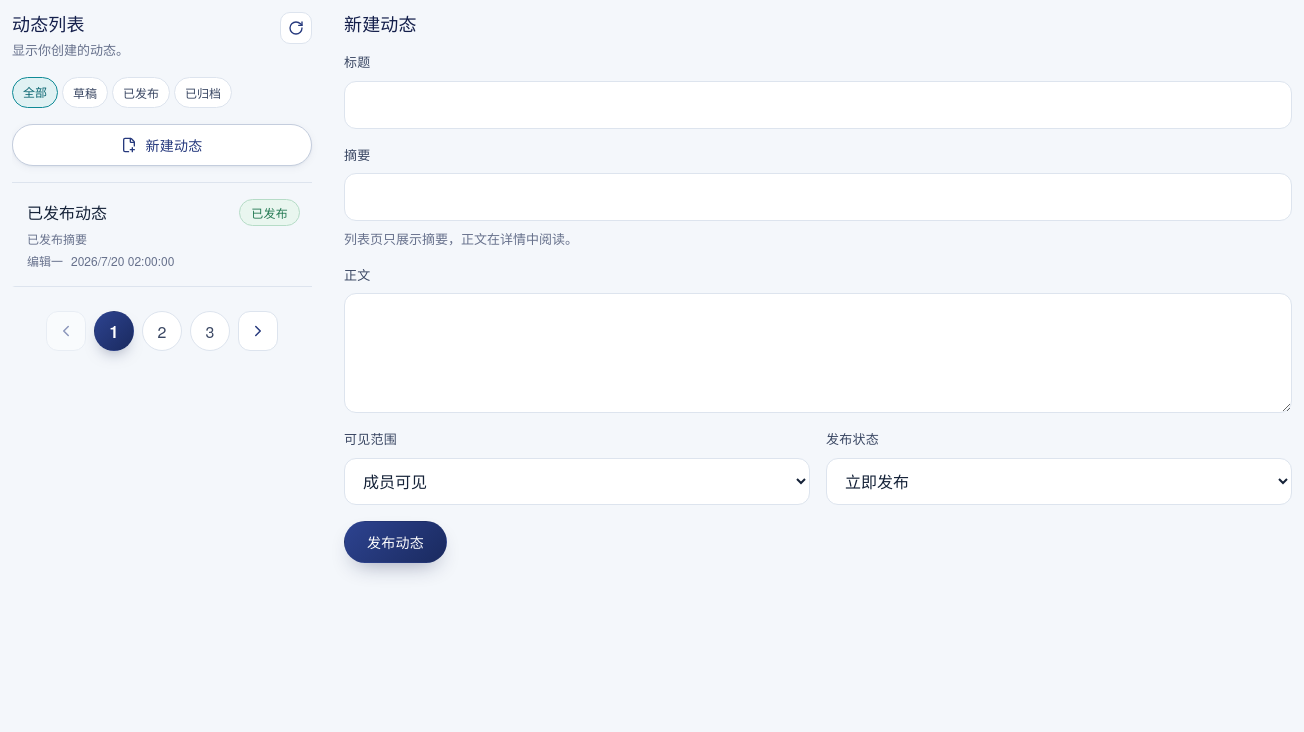
Scenario: AdminNews manage workspace › keeps the stable page and list when total-shrink correction fails
The width and height of the screenshot is (1304, 732).
Click the button named "下一页": click(258, 332) [238, 312, 278, 352]
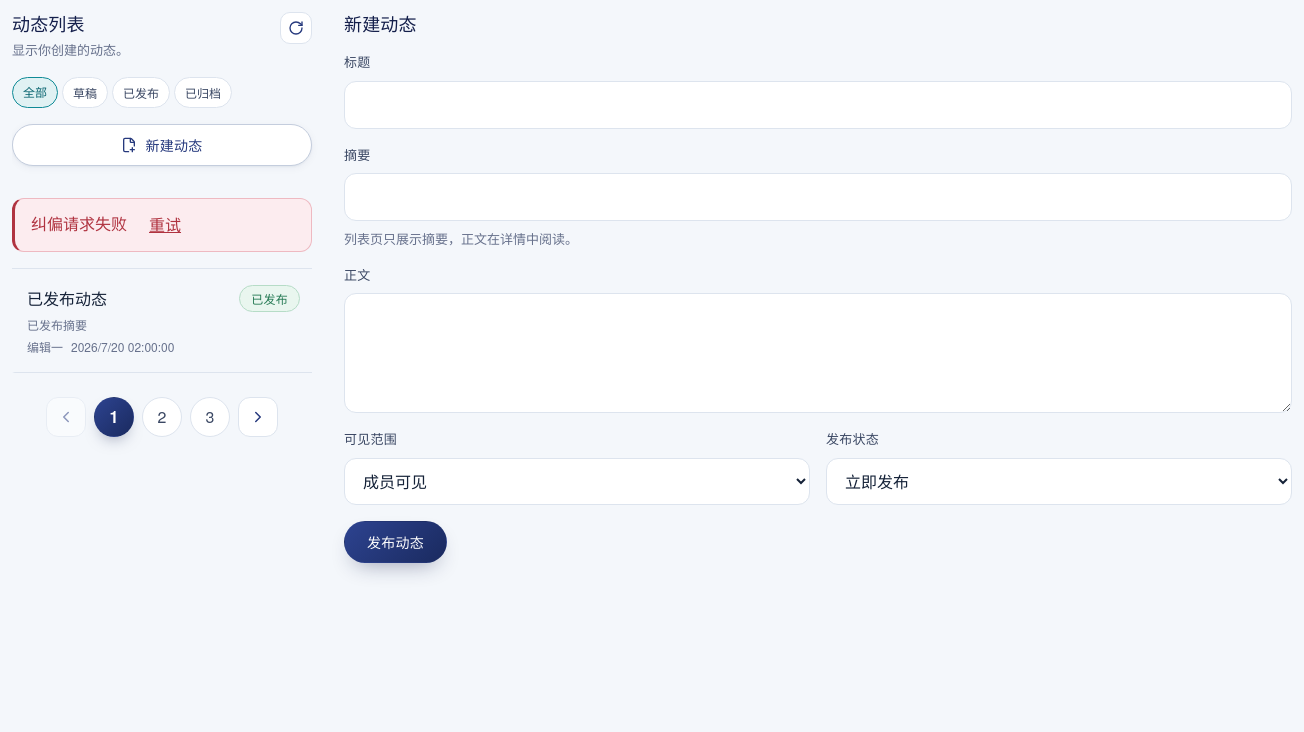
Check: the button "1" is shown, box [94, 397, 134, 437]
Check: the message "纠偏请求失败 重试" is shown, box [12, 198, 312, 252]
